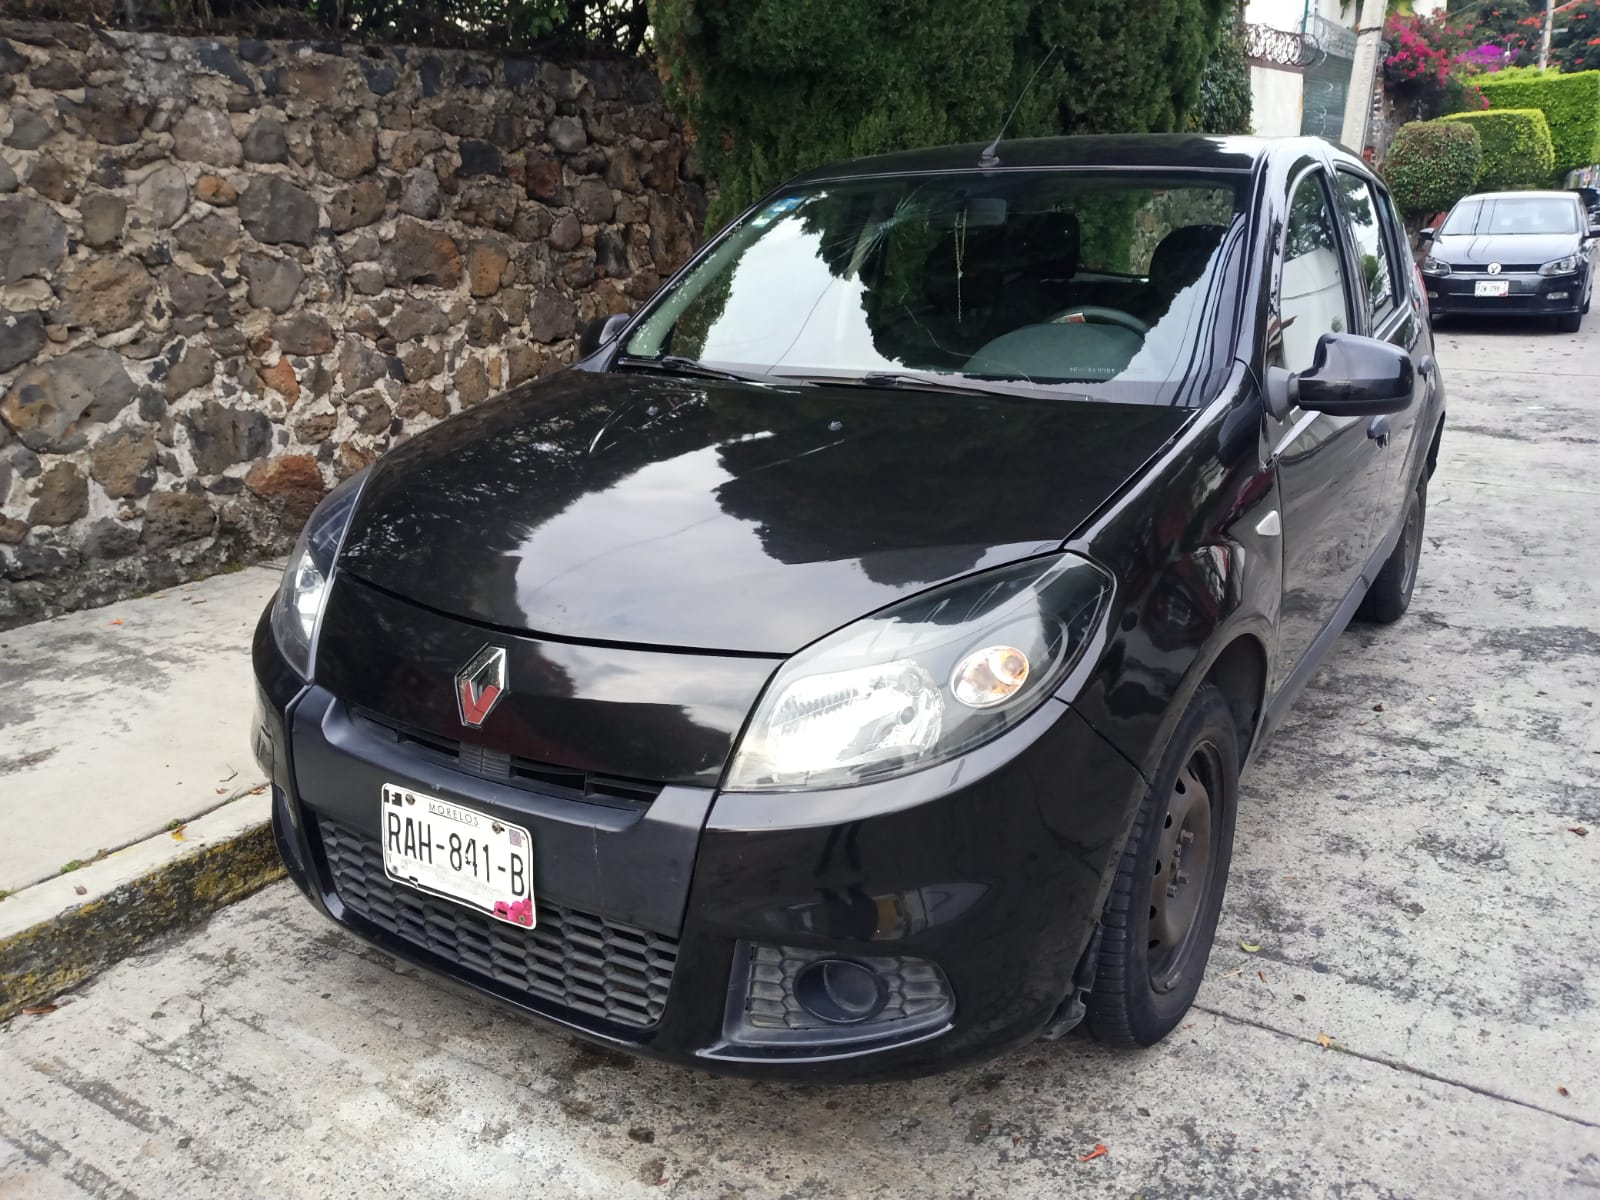Auto: (247, 134, 1451, 1098), (1414, 189, 1597, 329)
